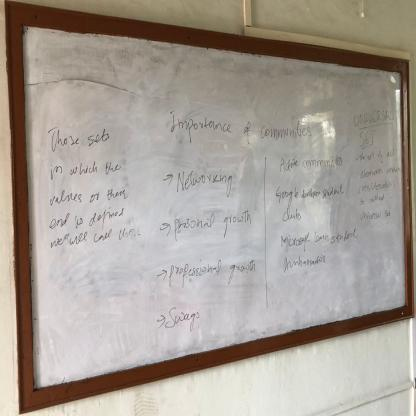Handwritten text: (167, 106, 317, 146), (171, 207, 255, 244), (165, 255, 259, 286), (45, 154, 127, 181), (174, 167, 240, 200), (277, 227, 364, 251), (44, 183, 132, 206), (48, 123, 116, 151), (273, 181, 346, 206), (48, 207, 125, 230), (163, 302, 209, 340), (274, 152, 344, 173), (281, 254, 334, 277), (352, 107, 395, 126), (358, 147, 400, 164), (356, 179, 399, 193), (357, 207, 396, 222), (357, 165, 401, 178), (357, 193, 389, 206), (359, 127, 379, 147), (280, 209, 304, 222)
Whiteboard: (17, 13, 411, 396)
